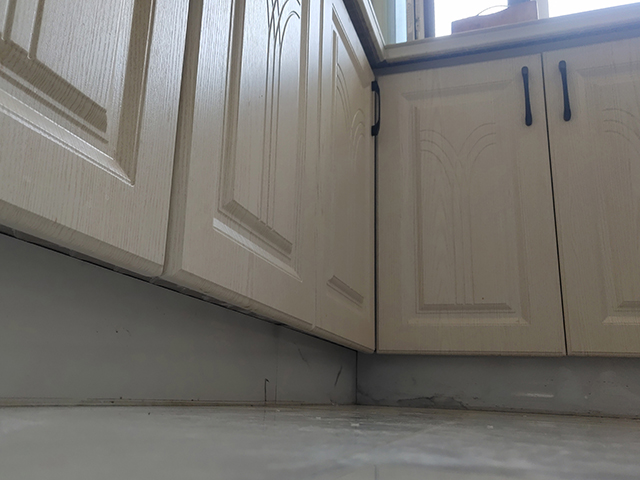cabinet: (1, 1, 379, 409), (383, 4, 640, 412)
